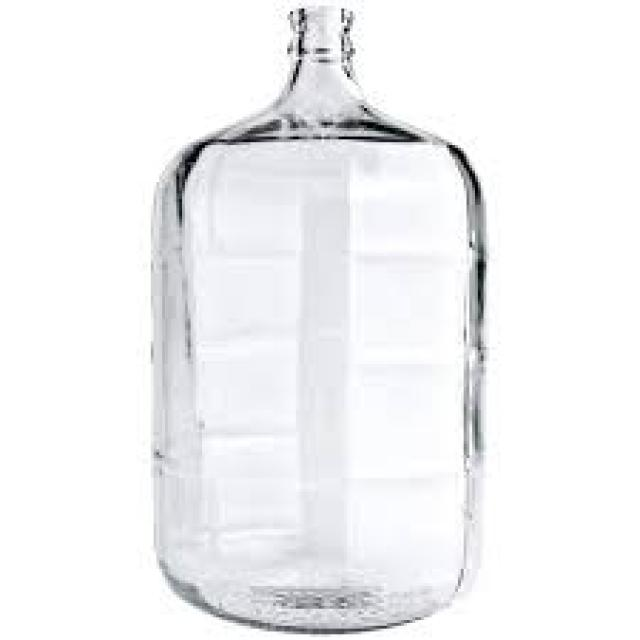glass: (148, 6, 483, 626)
